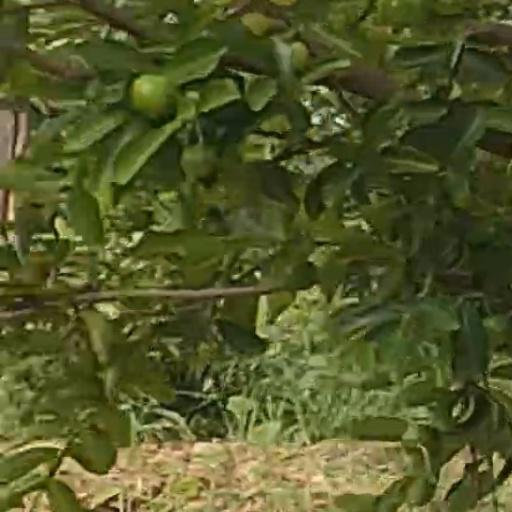acerola: (131, 74, 175, 120)
